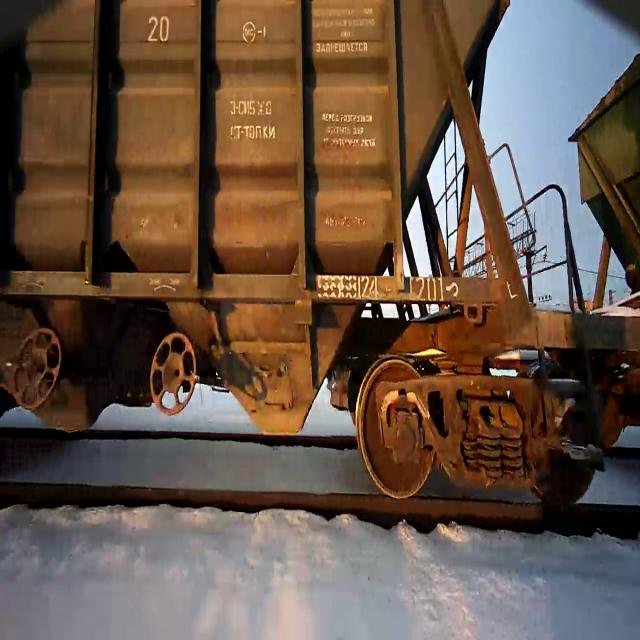hopper: (0, 0, 640, 516)
